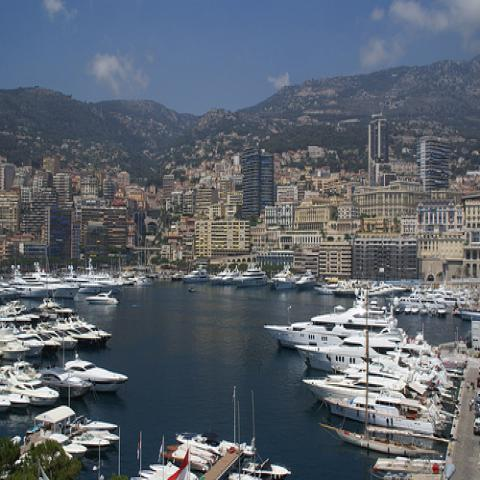car: (473, 414, 479, 433), (474, 398, 480, 416)
